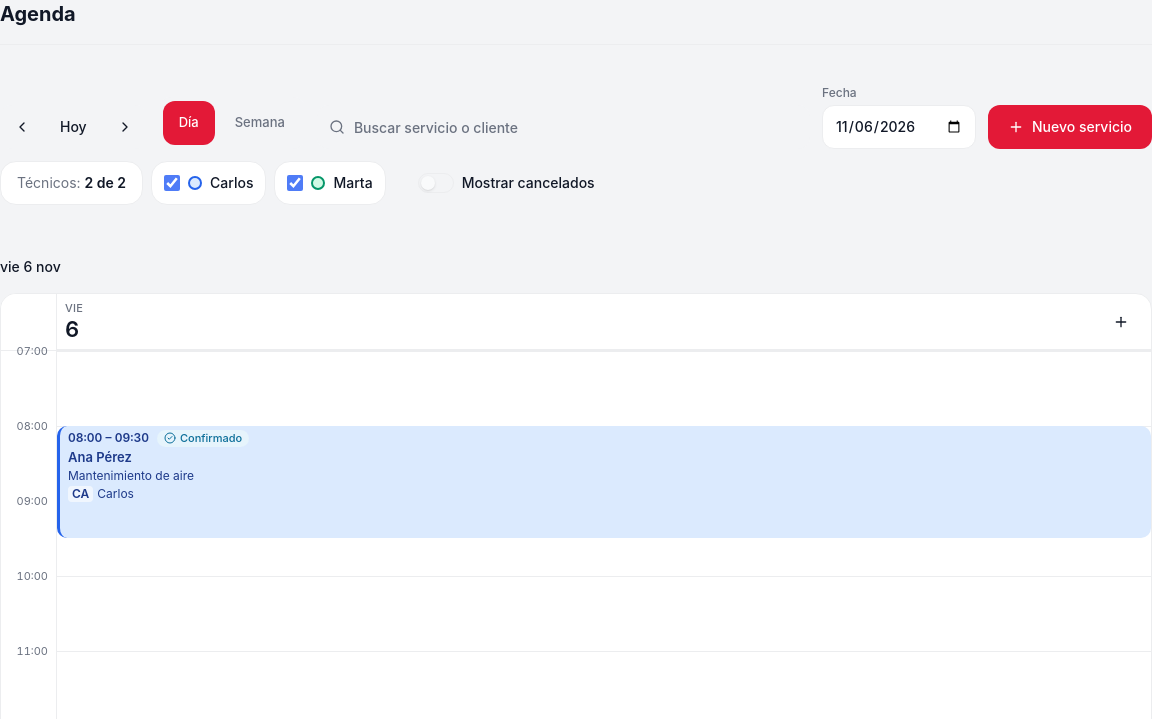
AgendaPage: ficha de la cita › abre la ficha con las acciones al tocar una cita
Click the button "Ana Pérez". click: {"x": 108, "y": 438}
box: [57, 426, 1151, 538]
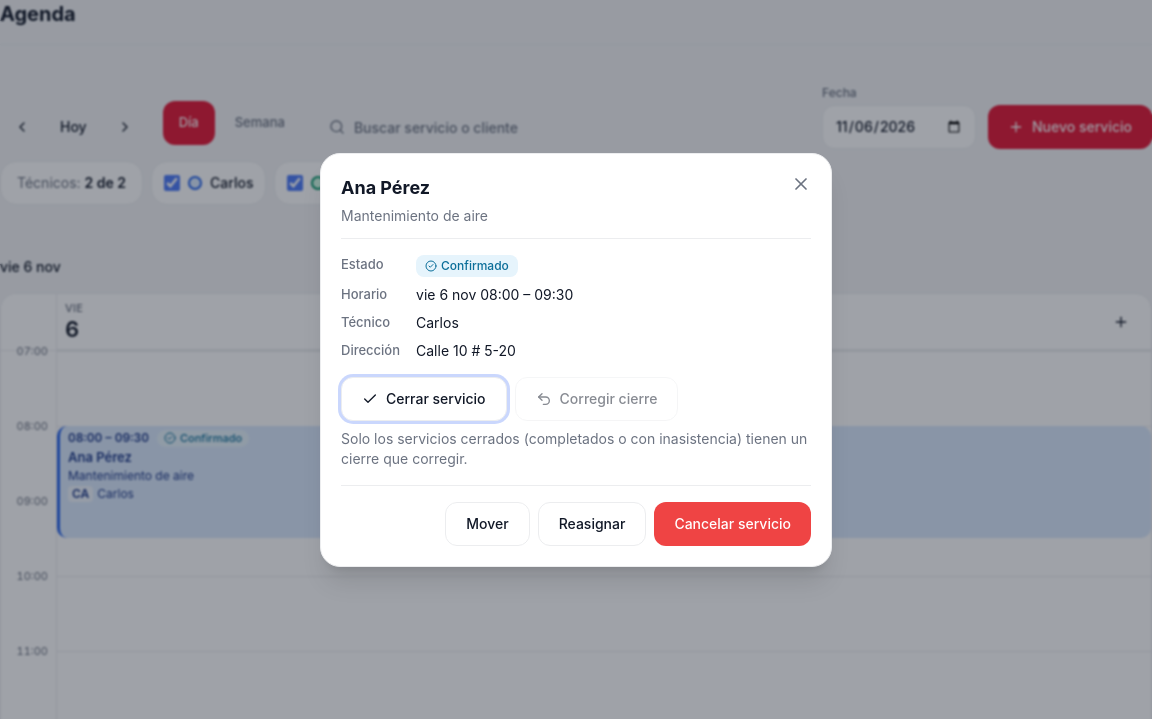
Now the button "Mover" is enabled, box [445, 502, 530, 546]
Now the button "Reasignar" is enabled, box [538, 502, 646, 546]
Now the button "Cancelar servicio" is enabled, box [654, 502, 811, 546]
